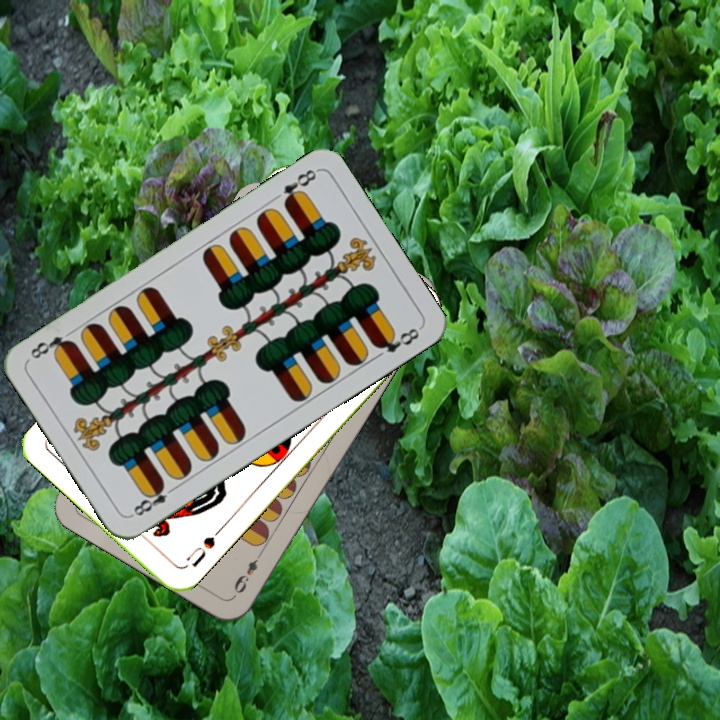E8: (127, 479, 180, 519), (278, 165, 320, 209)
E9: (229, 547, 266, 599)
SU: (181, 523, 225, 570)
